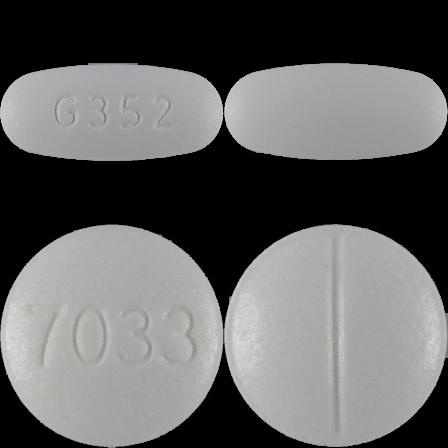0115-5522: (0, 0, 224, 224)
